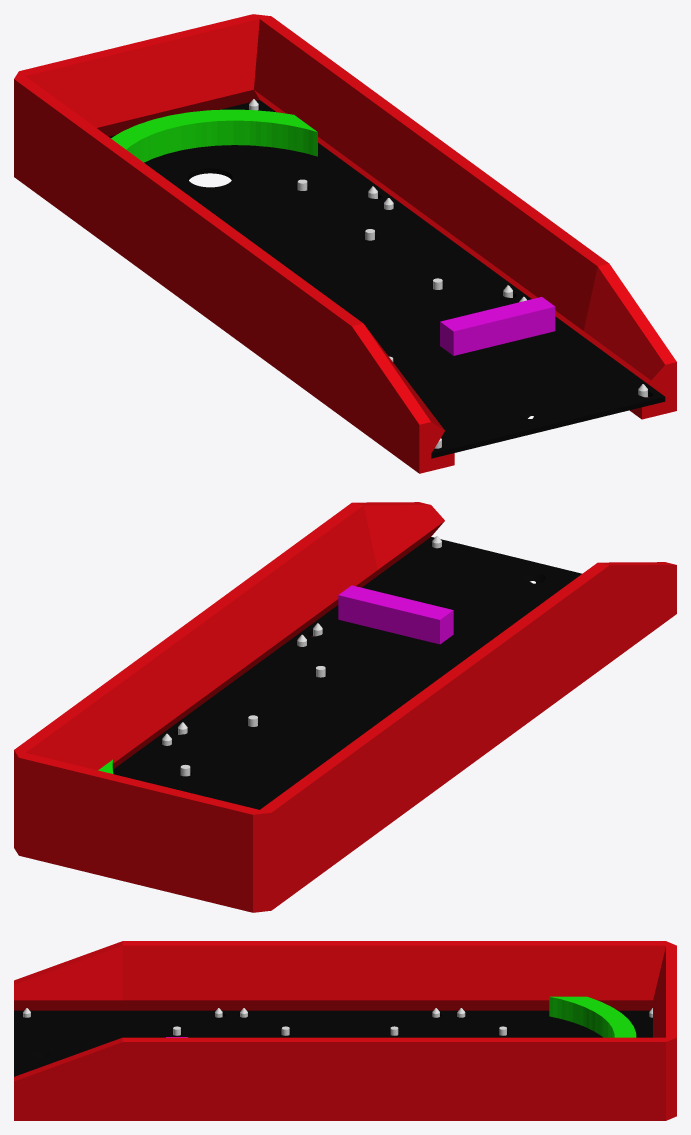
The model's file is mikrogolf-rata1.fbx.
3 renders of one model, top to bottom at view 1: azimuth 30°, elevation 25°; view 2: azimuth 150°, elevation 25°; view 3: azimuth 270°, elevation 25°, orthographic. The views are drawn at different scales.
Parts seen in each view (by area): view 1: Plane, Plane.009, Cube.005, Cube.004, Cube.024, Cube.006, Plane.002, Cube.023, Cube, Cube.003, Cube.014, Cube.002 (+1 smaller); view 2: Cube.006, Plane.009, Cube.005, Plane, Cube.004, Cube.024, Cube.023, Cube, Plane.002, Cube.003, Cube.013, Cube.002; view 3: Cube.023, Cube, Cube.004, Cube.024, Cube.005, Plane, Cube.006, Cube.002, Plane.009, Cube.003, Plane.002, Cube.014.
Boxes of the visible parts, x1,y1,x2,y2 form: Plane: [373, 298, 665, 458]; Plane.009: [244, 199, 529, 335]; Cube.005: [136, 14, 338, 148]; Cube.004: [216, 224, 363, 423]; Cube.024: [81, 125, 227, 324]; Cube.006: [14, 42, 150, 226]; Plane.002: [109, 100, 394, 235]; Cube.023: [314, 66, 473, 247]; Cube: [448, 164, 608, 346]; Cube.003: [352, 323, 454, 473]; Cube.014: [111, 109, 317, 162]; Cube.002: [583, 263, 676, 419]; Cube.006: [136, 760, 338, 912]; Plane.009: [161, 636, 446, 771]; Cube.005: [14, 700, 142, 884]; Plane: [296, 537, 581, 672]; Cube.004: [463, 562, 609, 761]; Cube.024: [327, 661, 474, 860]; Cube.023: [82, 601, 242, 769]; Cube: [217, 502, 377, 684]; Plane.002: [113, 735, 311, 809]; Cube.003: [599, 562, 676, 662]; Cube.013: [338, 585, 453, 644]; Cube.002: [353, 502, 444, 585]; Cube.023: [340, 1037, 557, 1120]; Cube: [122, 1037, 339, 1120]; Cube.004: [122, 941, 339, 1010]; Cube.024: [340, 941, 557, 1010]; Cube.005: [557, 991, 676, 1120]; Plane: [14, 1010, 231, 1076]; Cube.006: [557, 941, 676, 1037]; Cube.002: [14, 1037, 122, 1120]; Plane.009: [231, 1010, 448, 1037]; Cube.003: [14, 941, 122, 1010]; Plane.002: [448, 1010, 652, 1037]; Cube.014: [549, 996, 636, 1037].
Size of the model in its own units: 11 by 4 by 30.5.
